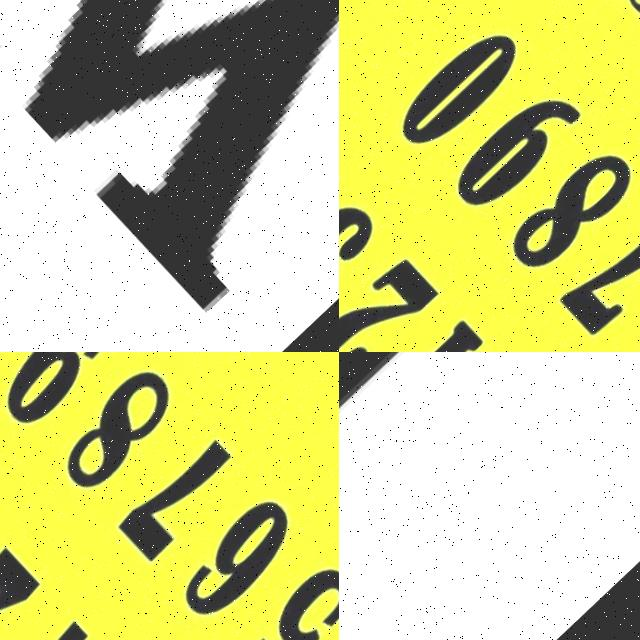0: (366, 9, 542, 184)
1: (344, 308, 496, 352)
2: (339, 238, 458, 352), (0, 530, 65, 640)
3: (339, 181, 393, 347)
5: (206, 540, 339, 640)
6: (150, 483, 317, 640)
7: (89, 407, 268, 589), (537, 191, 640, 352)
8: (19, 352, 199, 530), (476, 127, 640, 311)
9: (426, 65, 606, 244), (0, 352, 147, 459)
J: (339, 352, 631, 633)
W: (0, 0, 339, 352)
